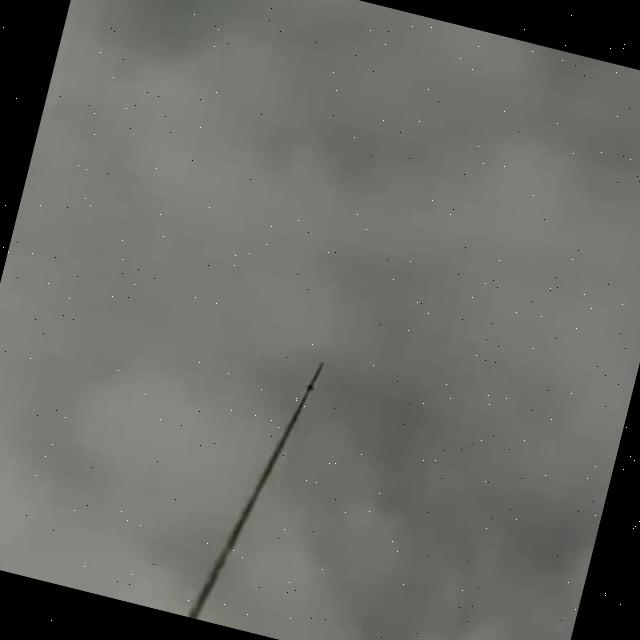smoke_trail_with_rocket: (183, 362, 322, 619)
